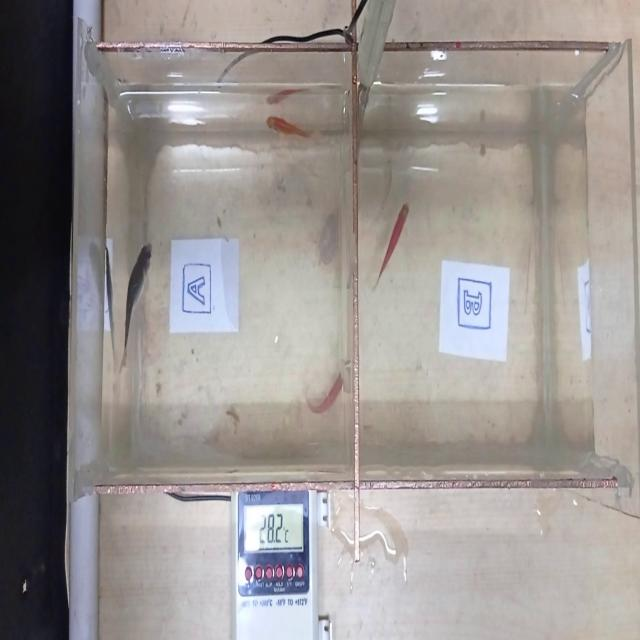Fish A1: (116, 228, 158, 380)
Fish A2: (265, 112, 314, 149)
Fish A3: (302, 358, 346, 426)
Fish B: (374, 197, 418, 304)
